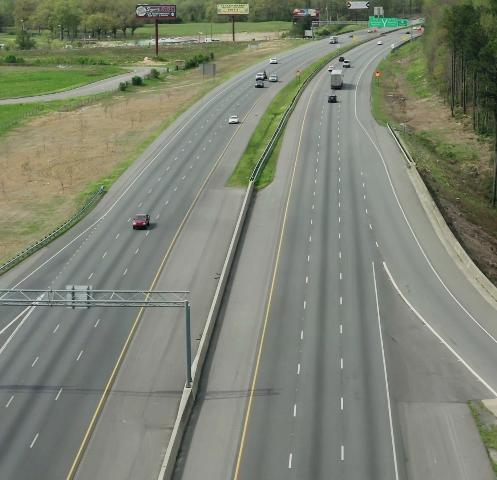car: (132, 209, 153, 231), (227, 114, 241, 125), (254, 80, 266, 89), (269, 74, 280, 83), (269, 57, 279, 65), (328, 95, 337, 103), (328, 65, 335, 72), (338, 56, 345, 62), (377, 41, 384, 45), (348, 34, 355, 38), (406, 31, 411, 35), (368, 29, 373, 33)
pickup-truck: (254, 69, 267, 81), (342, 59, 351, 68)
truck: (330, 70, 345, 91), (328, 35, 339, 44)
